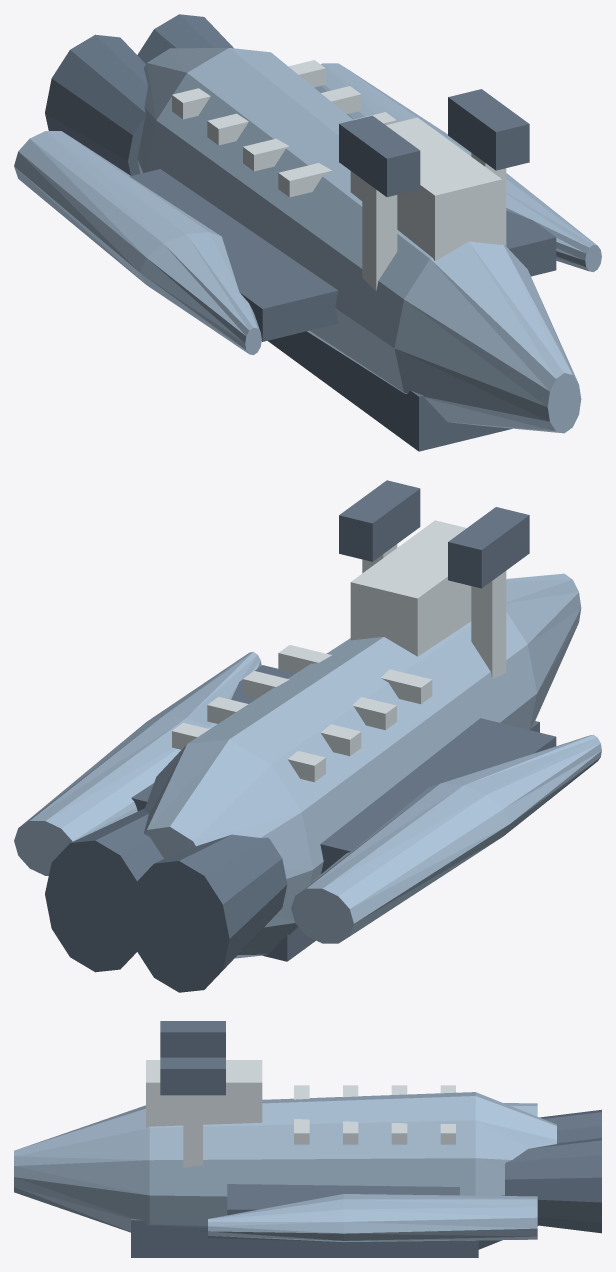
3 renders of one model, top to bottom at view 1: azimuth 30°, elevation 25°; view 2: azimuth 150°, elevation 25°; view 3: azimuth 270°, elevation 25°, orthographic. The views are drawn at different scales.
Size of the model in its own units: 3.24 by 2.46 by 6.49.
